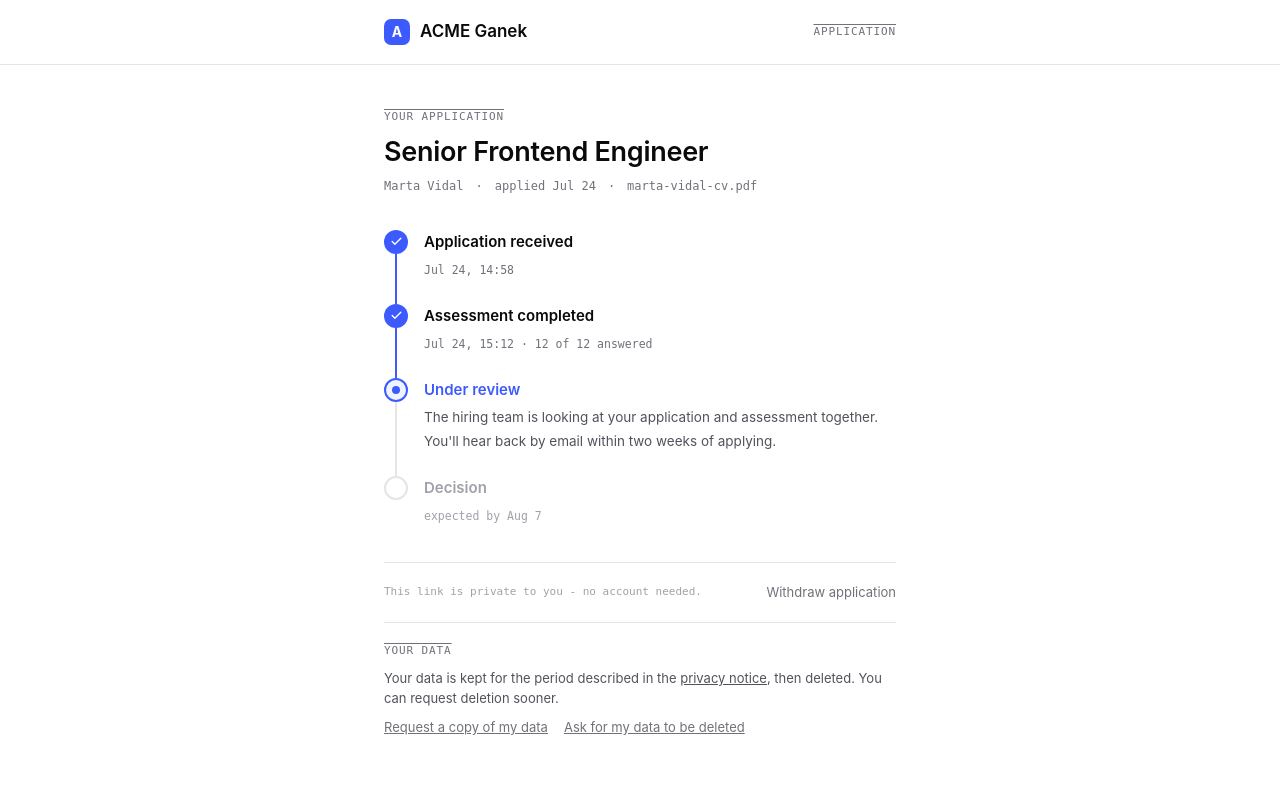
Test case: StatusPage privacy actions › request-a-copy posts and shows the receipt
Expected: the heading "Senior Frontend Engineer" is shown, x1=384 y1=134 x2=708 y2=168
Click the button "Request a copy of my data" at (466, 728), box x1=384 y1=718 x2=548 y2=737
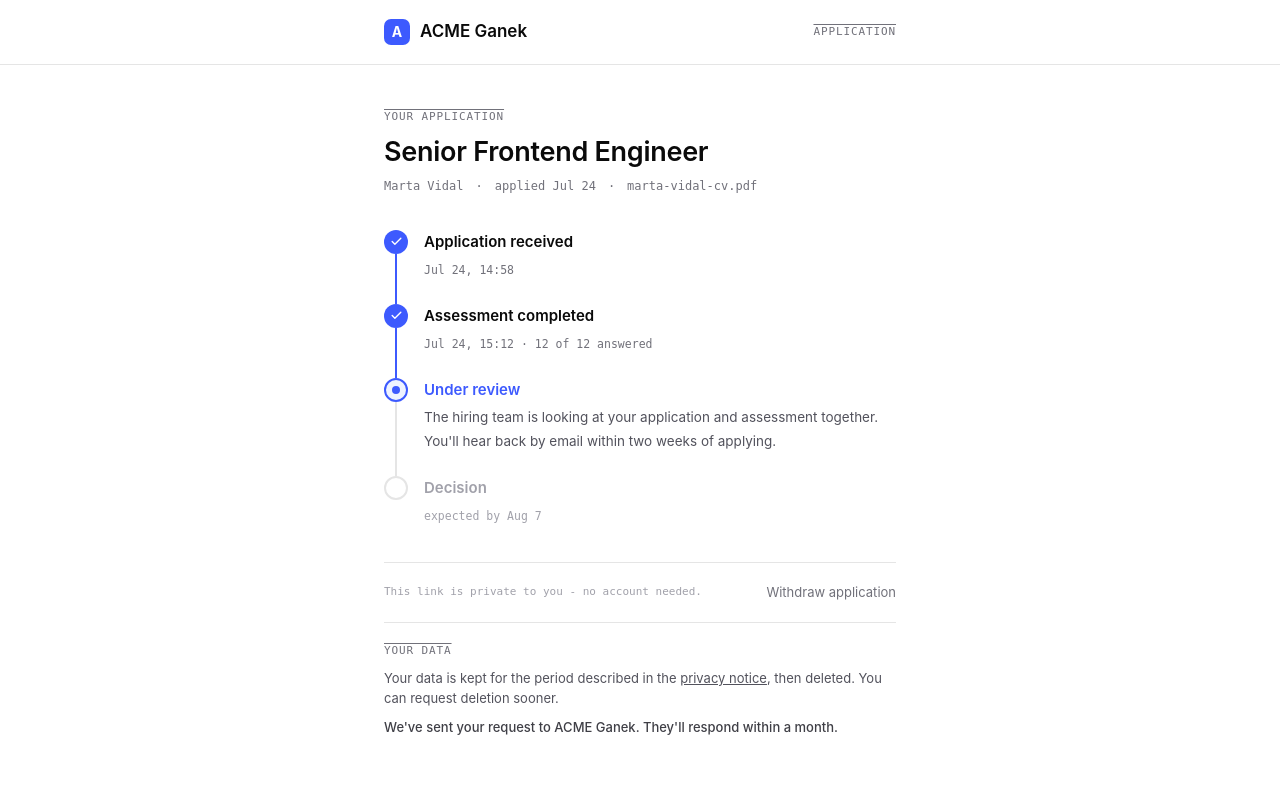
Expected: the message reads "We've sent your request to ACME Ganek. They'll respond within a month.", x1=384 y1=719 x2=838 y2=735
